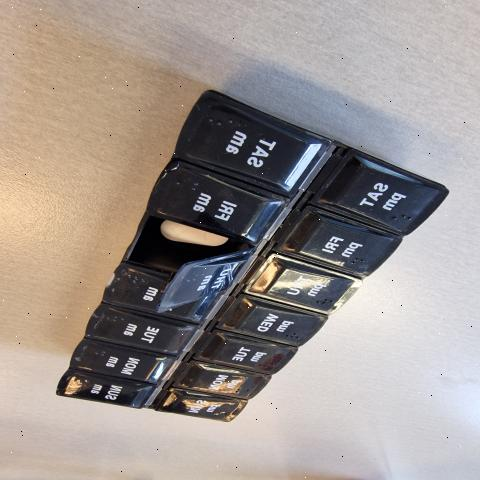Open: (123, 215, 259, 308)
